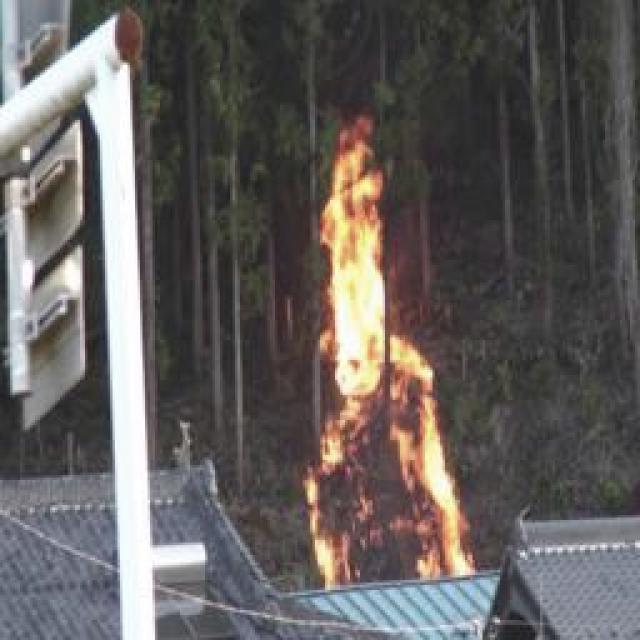Fire: (305, 149, 397, 588)
